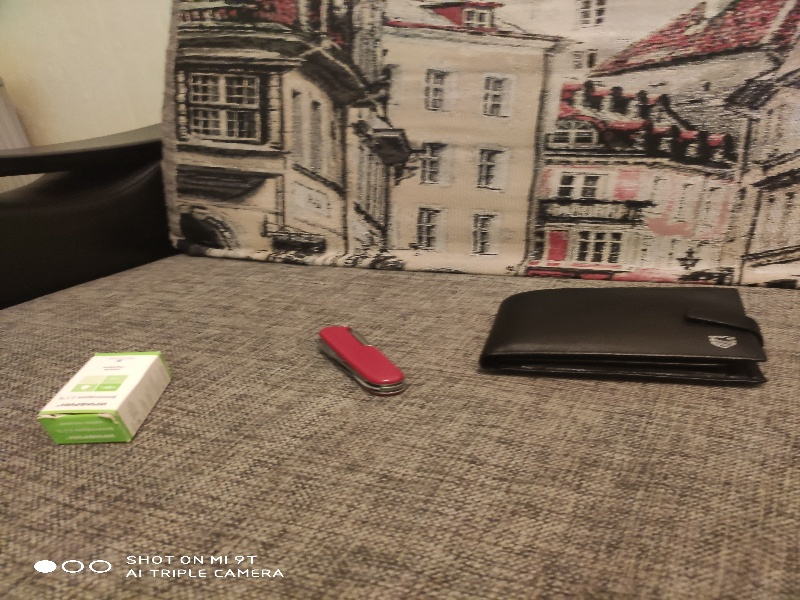ifrin: (35, 341, 175, 451)
knife: (305, 318, 415, 408)
wallet: (475, 278, 775, 398)
